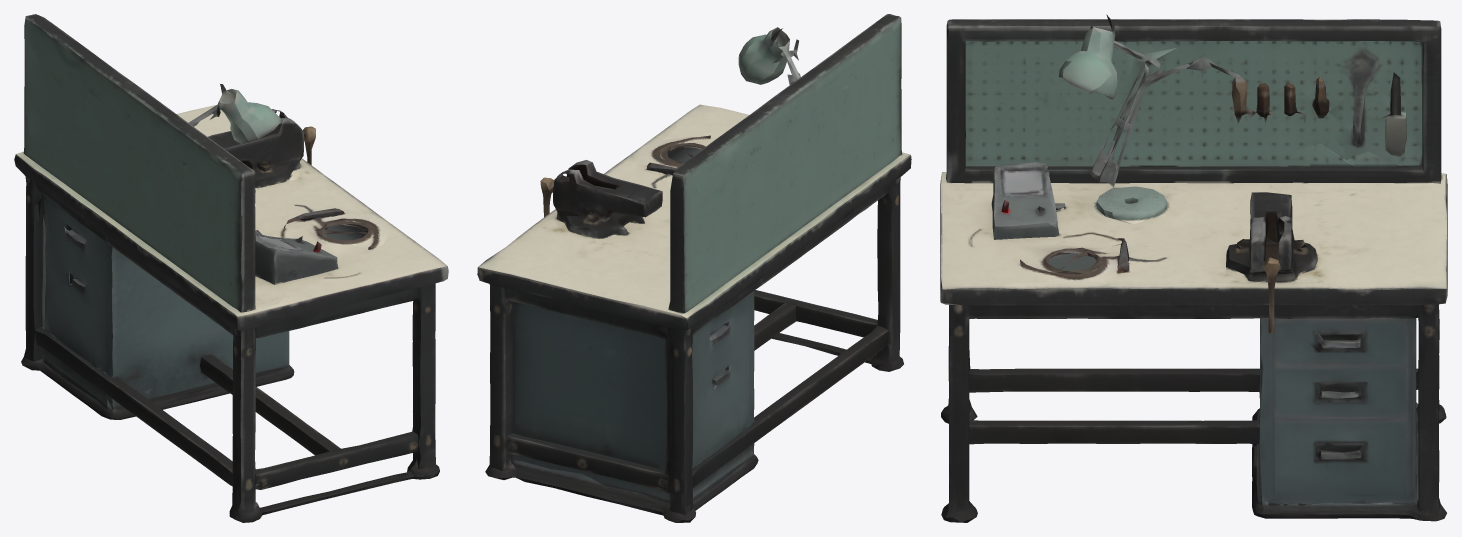
File: workshop.glb
The picture shows the model from 3 angles, left to right: view 1: azimuth 30°, elevation 25°; view 2: azimuth 150°, elevation 25°; view 3: azimuth 270°, elevation 25°; orthographic projection. The views are drawn at different scales.
Visible parts, largest first — view 1: workshop; view 2: workshop; view 3: workshop.
Boxes of the visible parts, box(x1,y1,x2,y2) form: workshop: box(14, 14, 448, 522); workshop: box(477, 14, 911, 522); workshop: box(940, 14, 1447, 522).
Bounding box in the file's own units: 0.9505 × 1.53 × 1.65.
Materials: 1 (1 with a texture image).
